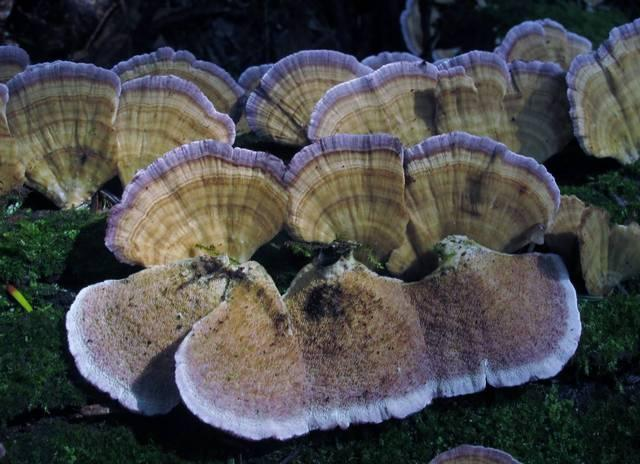poisonous_mushroom: (1, 14, 638, 443)
